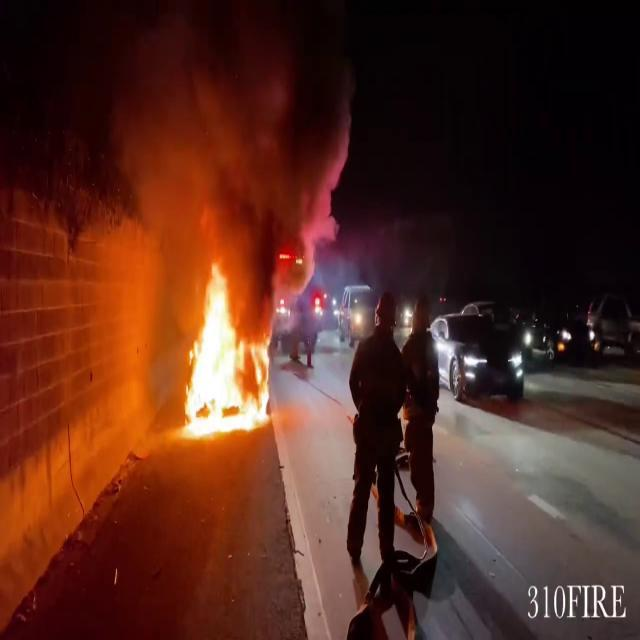Fire: (173, 254, 273, 442)
Smoke: (144, 1, 362, 280)
